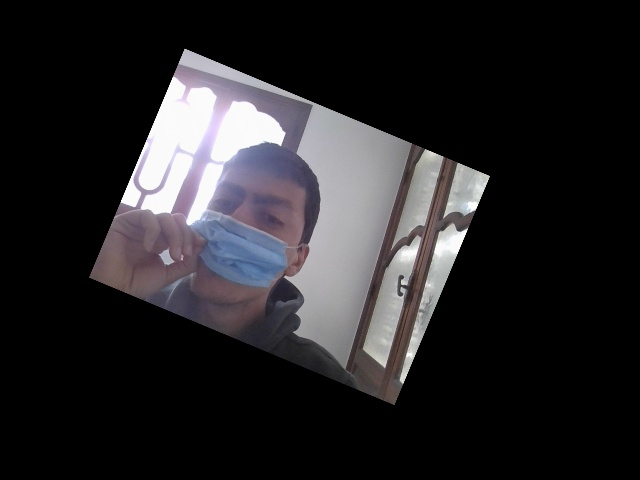mask_weared_incorrect: (182, 140, 312, 312)
